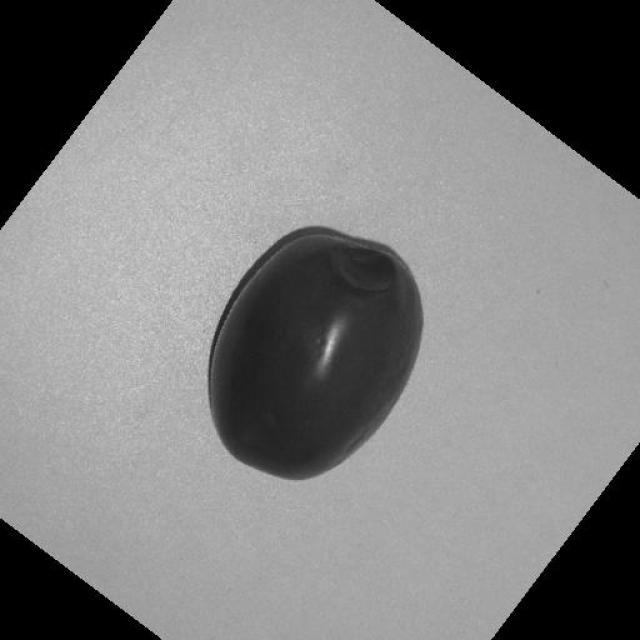Stale_tomato: (195, 221, 418, 474)
